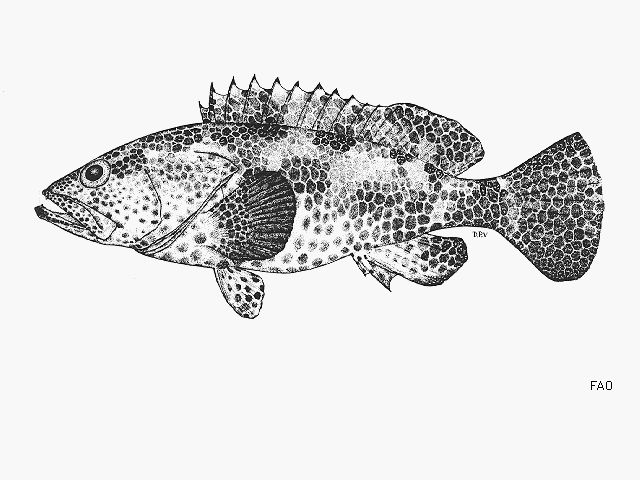fish: (34, 73, 606, 319)
